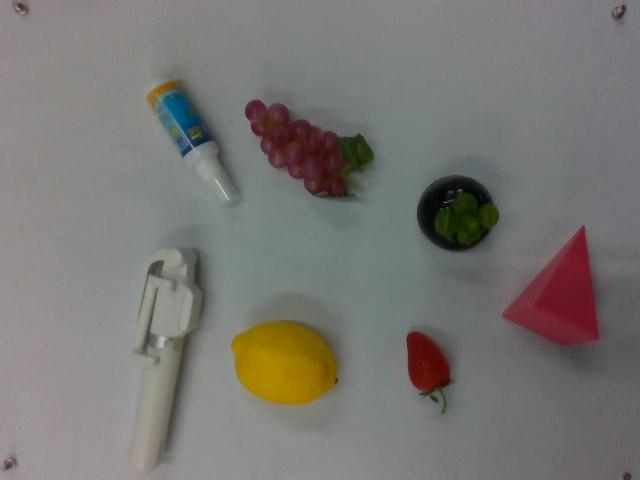detergent: (145, 71, 237, 203)
grape: (246, 93, 372, 208)
lemon: (230, 320, 341, 411)
mangosteen: (415, 171, 499, 253)
pyramid: (504, 223, 605, 352)
selfiestick: (123, 242, 206, 473)
strawberry: (403, 329, 455, 412)
